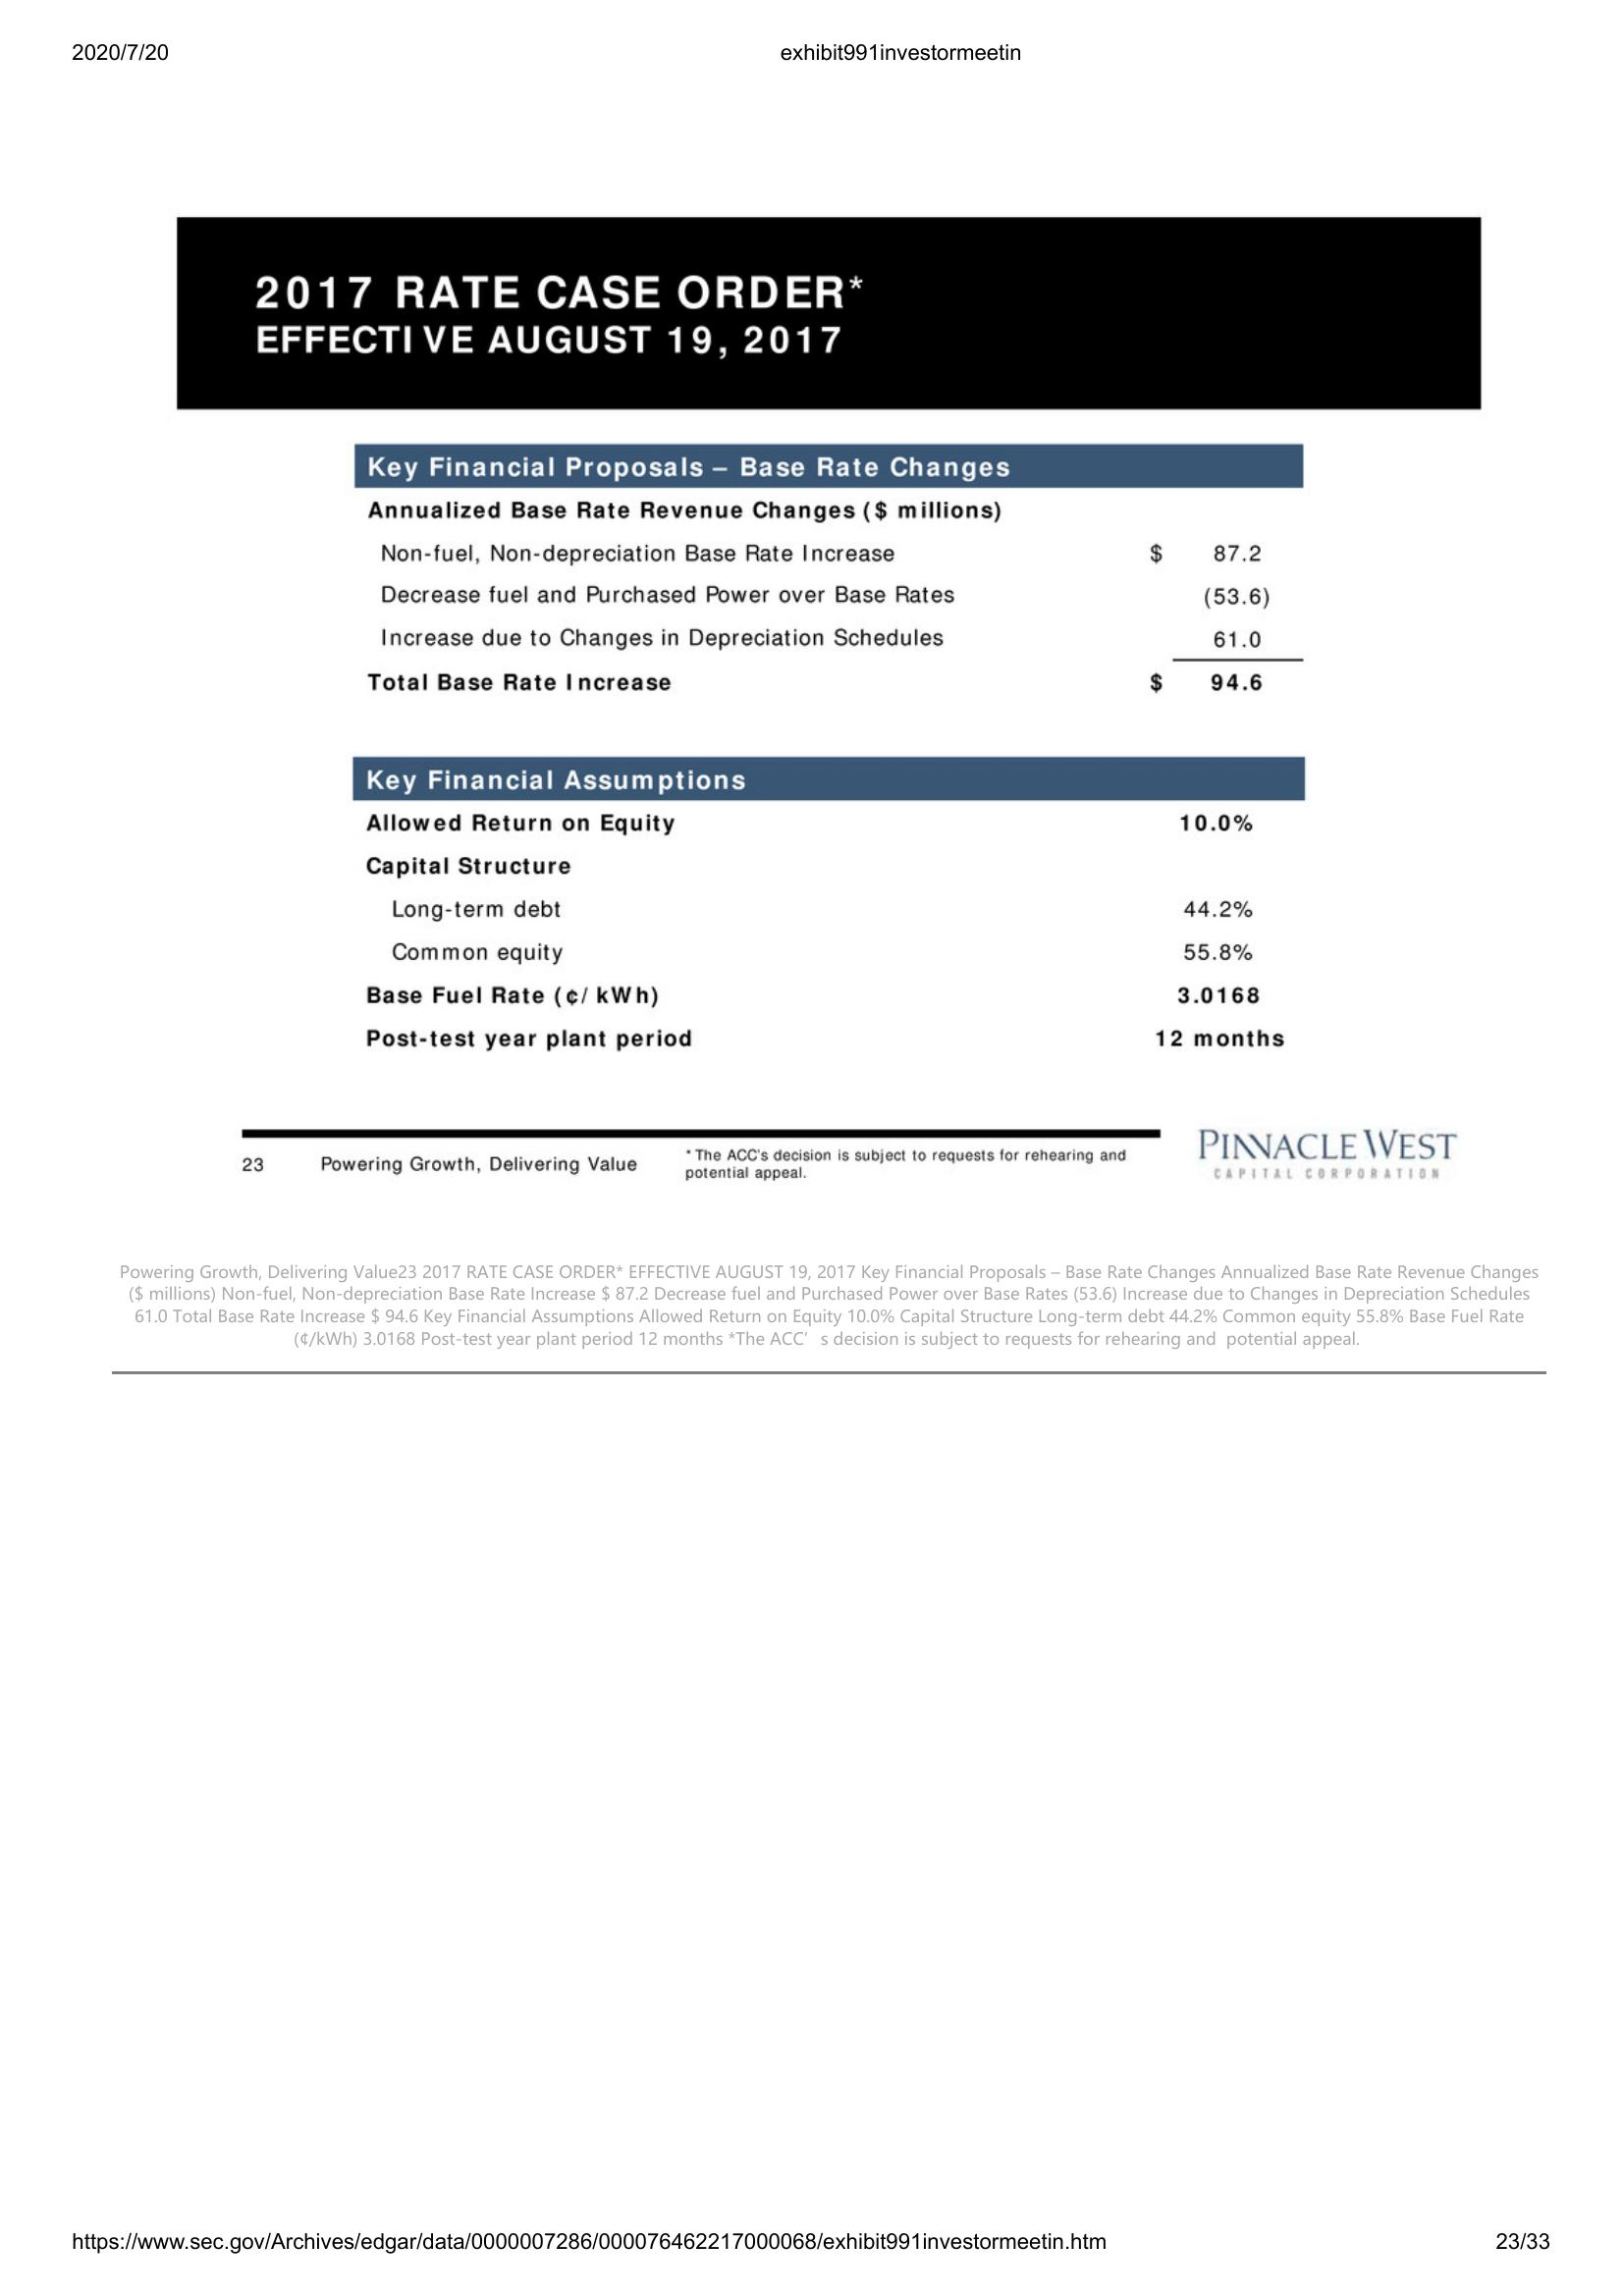table: (346, 750, 1303, 1064), (357, 437, 1310, 700)
